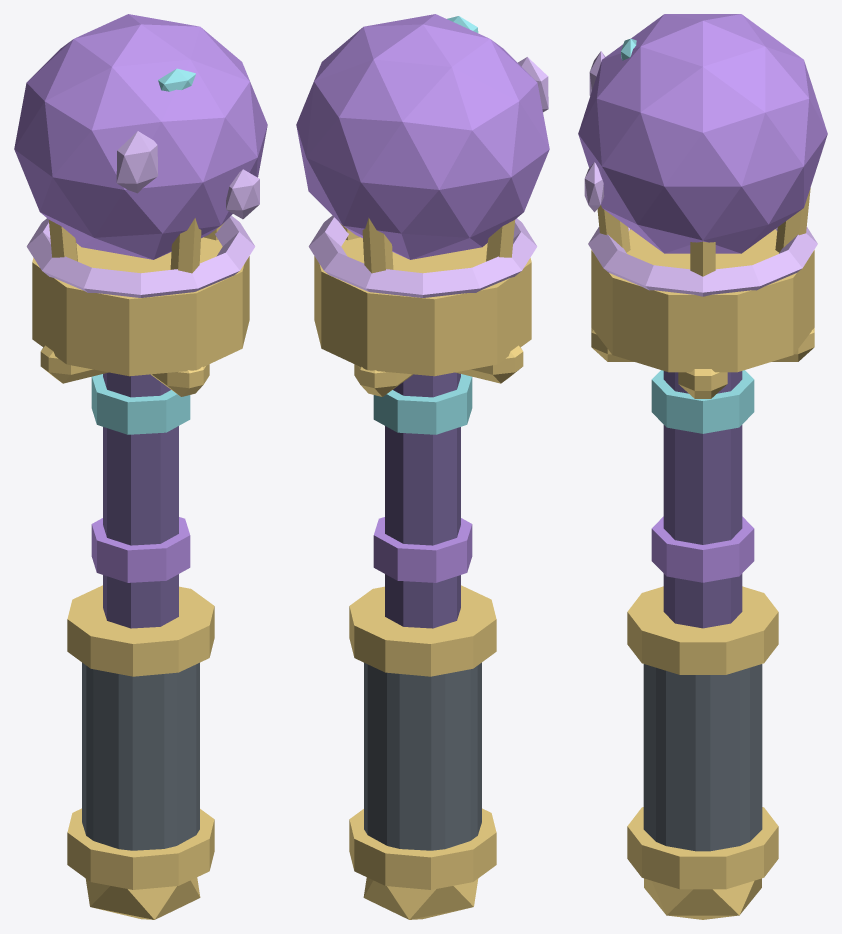
Rendered from Wand.glb.
3 renders of one model, left to right at view 1: azimuth 30°, elevation 25°; view 2: azimuth 150°, elevation 25°; view 3: azimuth 270°, elevation 25°, orthographic.
Visible parts, largest first — view 1: CrystalBall, Grip, CrystalCollar, MainShaft, UpperGripBand, CrystalSeatRing, LowerGripBand, ShaftSpiralBandLower, ShaftSpiralBandUpper, BottomPommel, CrystalFacetLeft, CrystalFacetRight (+5 smaller); view 2: CrystalBall, Grip, CrystalCollar, MainShaft, UpperGripBand, CrystalSeatRing, LowerGripBand, ShaftSpiralBandLower, ShaftSpiralBandUpper, BottomPommel, CrystalClaw4, WeatherCrossDepth (+3 smaller); view 3: CrystalBall, Grip, CrystalCollar, MainShaft, UpperGripBand, LowerGripBand, CrystalSeatRing, ShaftSpiralBandLower, ShaftSpiralBandUpper, BottomPommel, WeatherCrossHorizontal, WeatherCrossDepth (+4 smaller).
Part boxes in pixels (bbox=[...]): CrystalBall: bbox=[14, 14, 267, 259]; Grip: bbox=[82, 662, 199, 850]; CrystalCollar: bbox=[32, 237, 249, 376]; MainShaft: bbox=[103, 372, 178, 628]; UpperGripBand: bbox=[67, 585, 214, 676]; CrystalSeatRing: bbox=[26, 215, 255, 297]; LowerGripBand: bbox=[67, 808, 214, 889]; ShaftSpiralBandLower: bbox=[91, 517, 190, 582]; ShaftSpiralBandUpper: bbox=[91, 374, 190, 434]; BottomPommel: bbox=[86, 877, 200, 919]; CrystalFacetLeft: bbox=[116, 131, 157, 193]; CrystalFacetRight: bbox=[226, 169, 259, 219]; CrystalBall: bbox=[296, 14, 549, 259]; Grip: bbox=[364, 662, 481, 850]; CrystalCollar: bbox=[314, 237, 531, 376]; MainShaft: bbox=[385, 372, 460, 628]; UpperGripBand: bbox=[349, 585, 496, 676]; CrystalSeatRing: bbox=[308, 215, 537, 297]; LowerGripBand: bbox=[349, 808, 496, 889]; ShaftSpiralBandLower: bbox=[373, 517, 472, 582]; ShaftSpiralBandUpper: bbox=[373, 374, 472, 434]; BottomPommel: bbox=[363, 877, 477, 919]; CrystalClaw4: bbox=[362, 218, 393, 273]; WeatherCrossDepth: bbox=[354, 364, 412, 396]; CrystalBall: bbox=[578, 14, 827, 253]; Grip: bbox=[643, 664, 762, 851]; CrystalCollar: bbox=[591, 229, 814, 372]; MainShaft: bbox=[663, 371, 742, 628]; UpperGripBand: bbox=[627, 586, 778, 674]; LowerGripBand: bbox=[627, 807, 778, 889]; CrystalSeatRing: bbox=[588, 226, 817, 296]; ShaftSpiralBandLower: bbox=[651, 516, 754, 582]; ShaftSpiralBandUpper: bbox=[651, 370, 754, 433]; BottomPommel: bbox=[644, 878, 761, 919]; WeatherCrossHorizontal: bbox=[678, 369, 727, 398]; WeatherCrossDepth: bbox=[591, 328, 814, 361].
Bounding box in the file's own units: 0.38 × 1.51 × 0.38.
